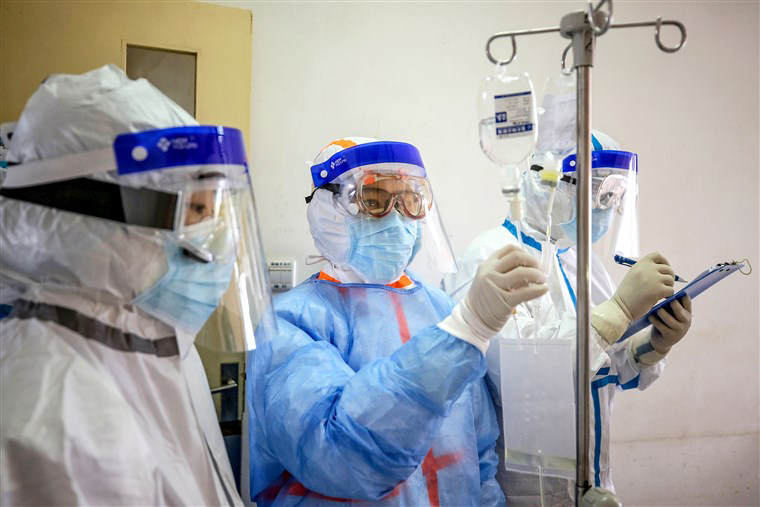Coverall: (1, 65, 244, 506), (255, 137, 512, 503), (464, 126, 649, 503)
Face_Shield: (111, 123, 280, 355), (319, 137, 457, 279), (563, 148, 647, 271)
Gloves: (442, 245, 550, 336), (613, 251, 678, 320), (649, 295, 693, 355)
Goggles: (345, 170, 435, 220), (170, 177, 246, 232), (591, 173, 643, 209)
with_mask: (136, 222, 234, 334), (346, 197, 426, 282), (564, 203, 611, 246)
